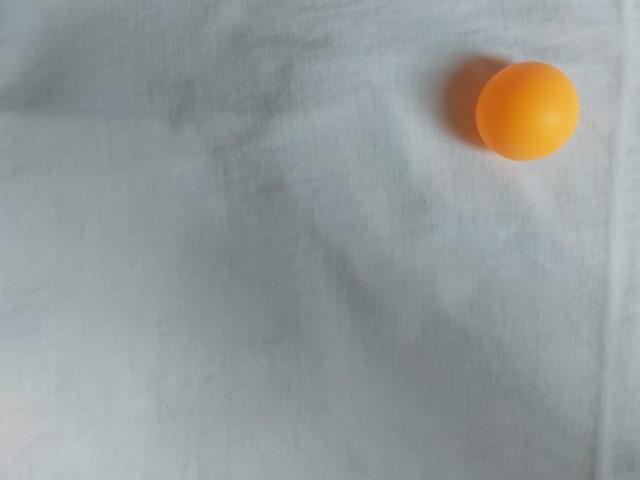oball: (52, 310, 173, 427)
